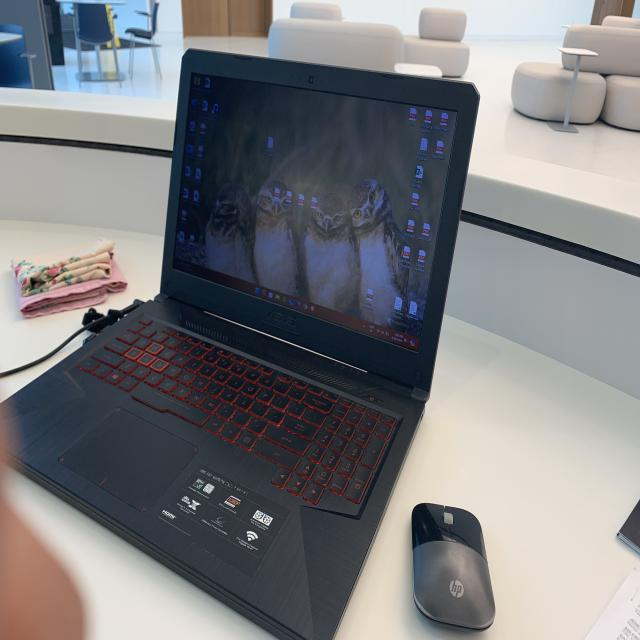Mouse: (406, 494, 498, 636)
